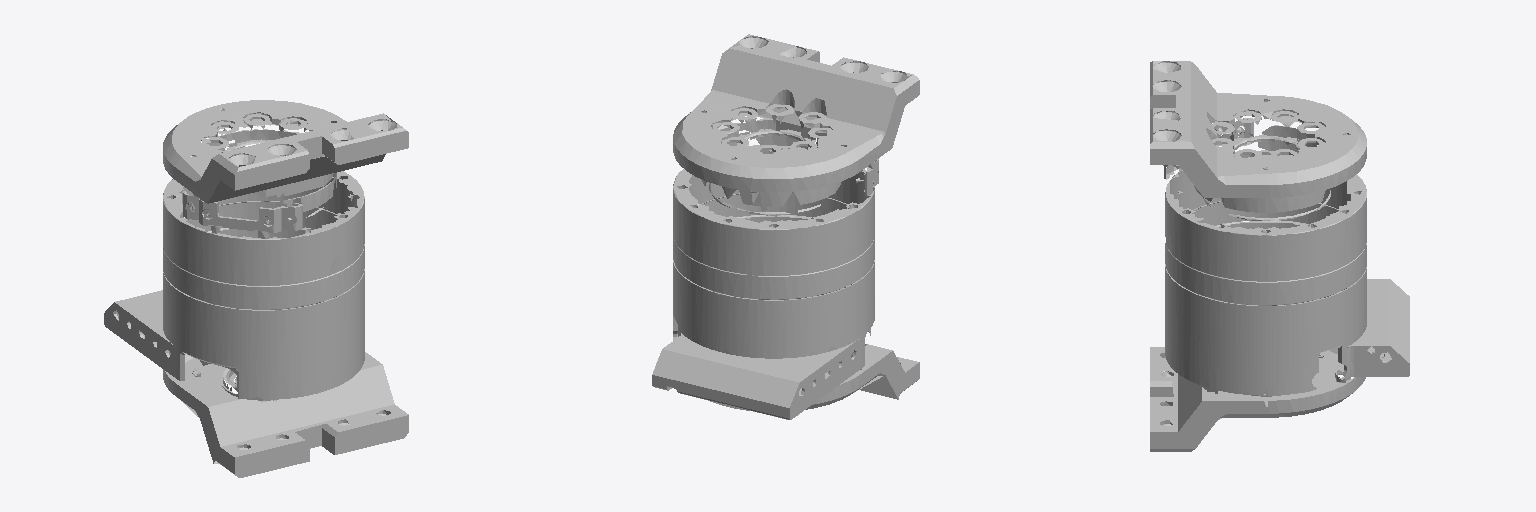
Rendered from sim_ecub_torso_2.obj.
The picture shows the model from 3 angles: view 1: azimuth 30°, elevation 25°; view 2: azimuth 150°, elevation 25°; view 3: azimuth 270°, elevation 25°; orthographic projection.
Size of the model in its own units: 70.9 by 119 by 90.47.